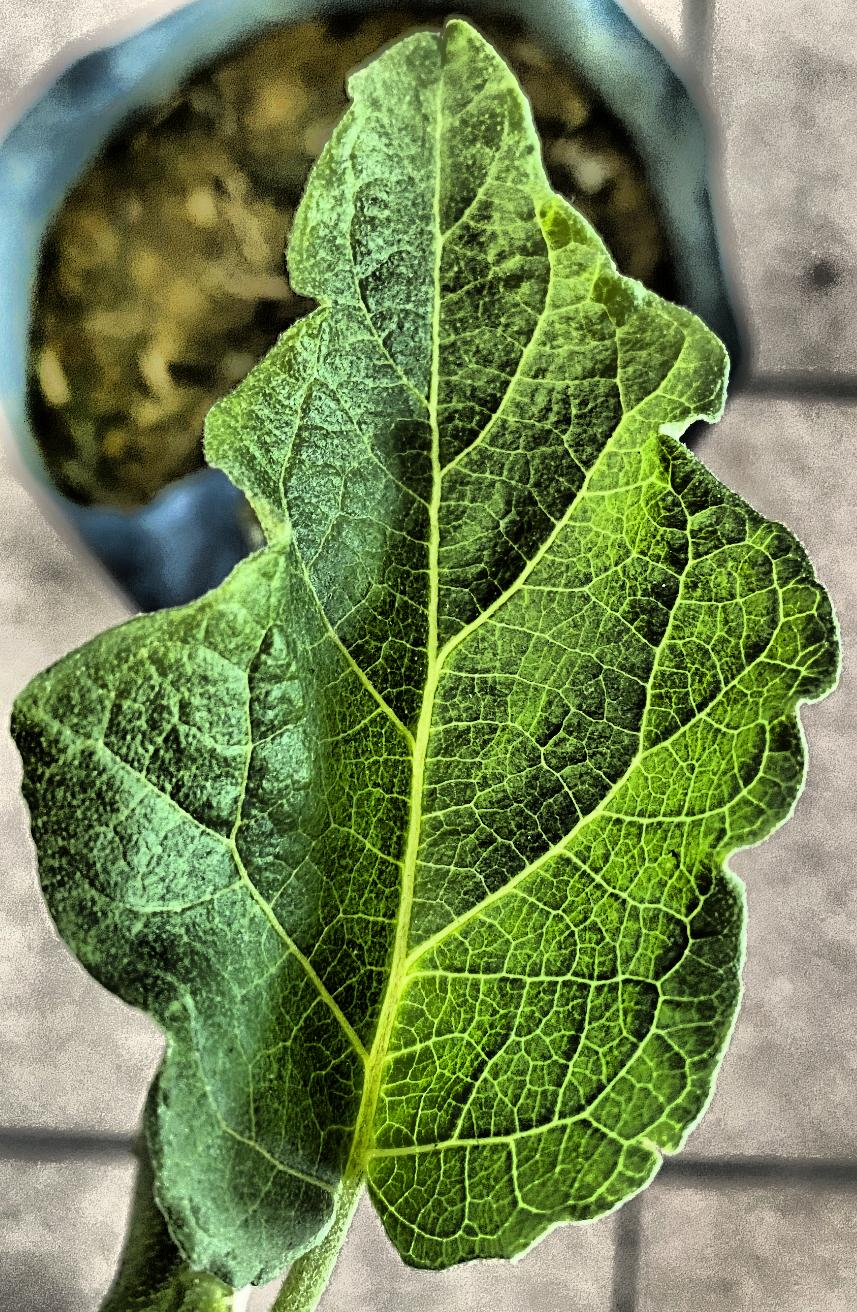HEALTHY: (1, 1, 857, 1312)
